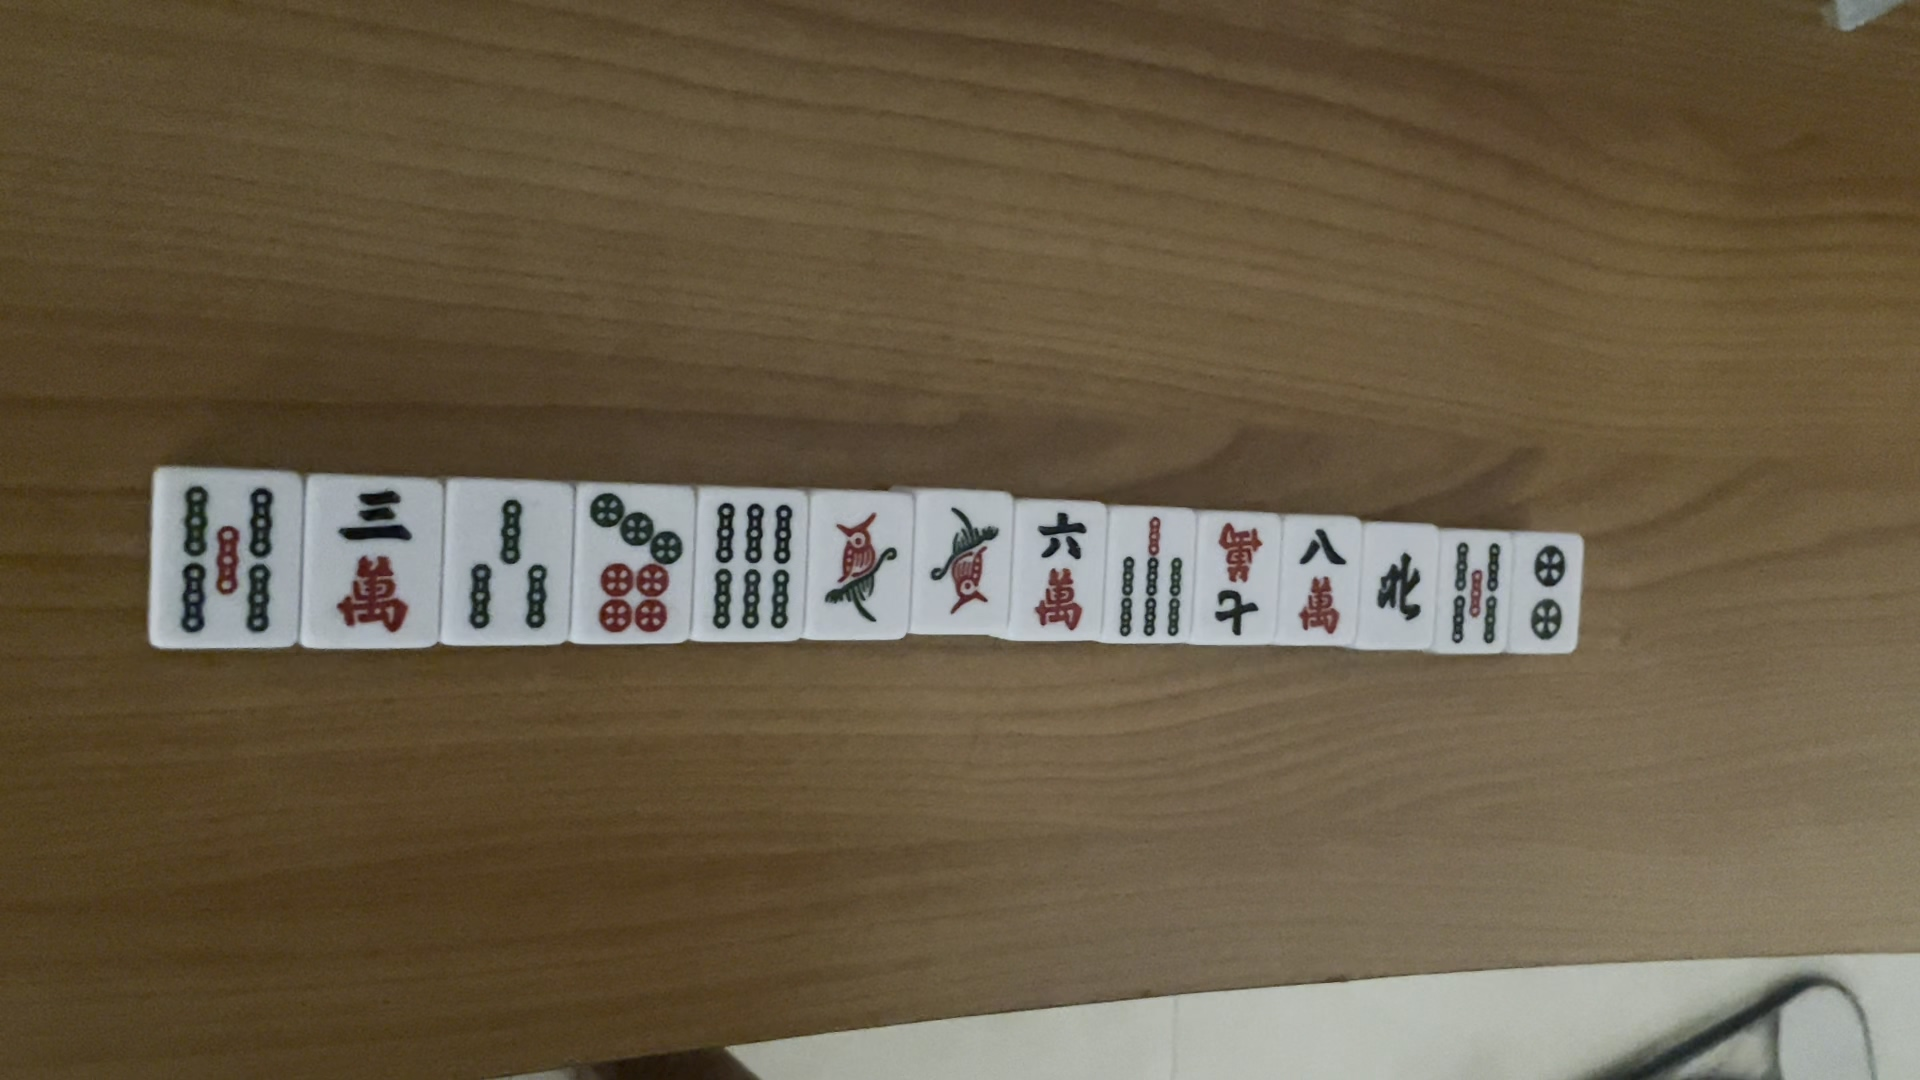b-1: (920, 506, 1002, 621), (822, 506, 903, 620)
b-3: (458, 488, 558, 640)
b-5: (164, 477, 284, 634), (1443, 537, 1505, 647)
b-6: (707, 498, 796, 633)
b-7: (1118, 516, 1185, 638)
c-3: (318, 485, 425, 641)
c-6: (1022, 512, 1091, 632)
c-7: (1200, 521, 1265, 636)
c-8: (1288, 518, 1349, 644)
d-2: (1523, 545, 1571, 644)
d-7: (584, 492, 694, 638)
honors-north: (1371, 553, 1428, 620)
